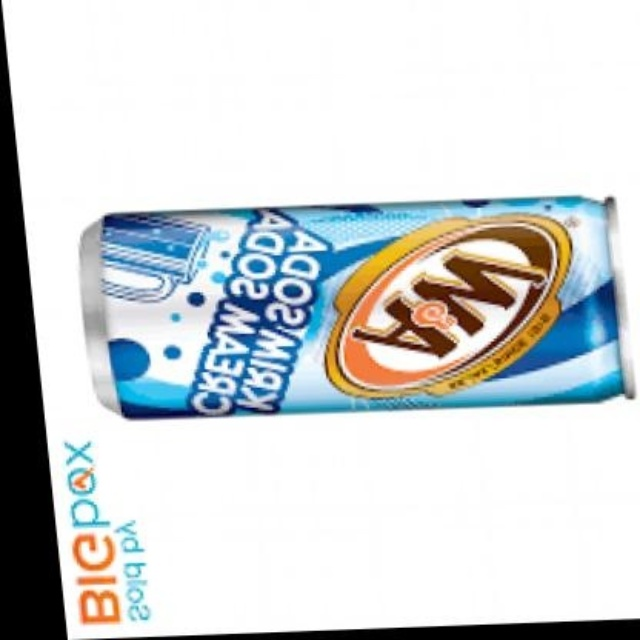trash: (82, 197, 629, 415)
